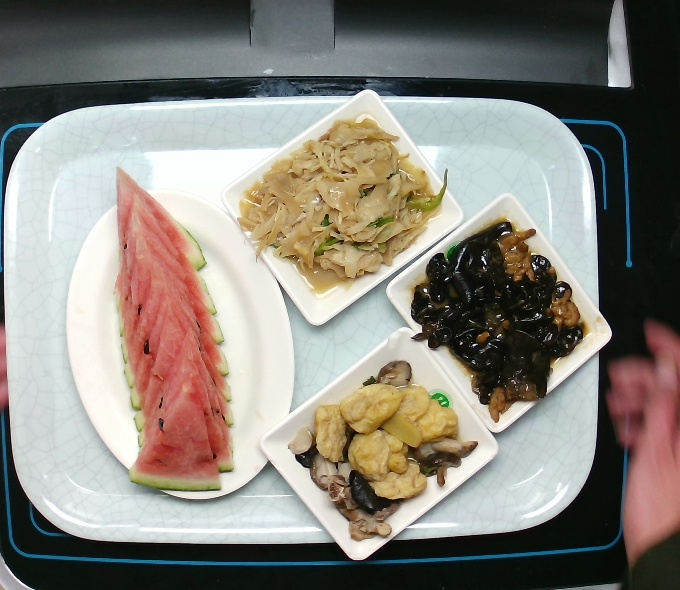wcq-LuSun: (237, 112, 443, 294)
wcq-MuErChaoRou: (409, 216, 585, 412)
wcq-XiGua: (97, 171, 234, 501)
wcq-YouPaoPaiGu: (284, 360, 470, 545)
